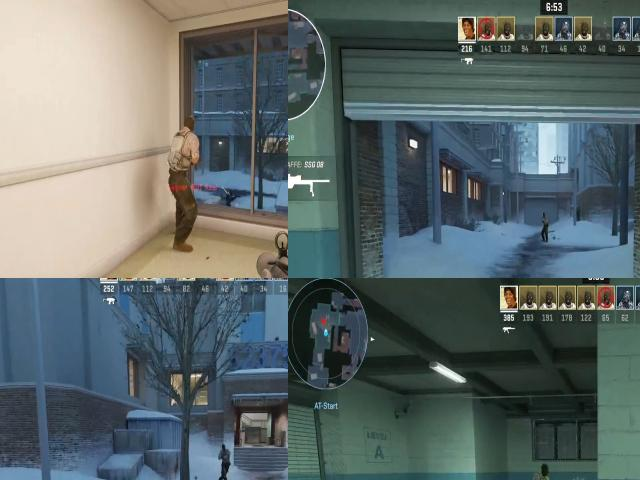T: (167, 119, 199, 184), (527, 464, 553, 480), (217, 442, 232, 468), (541, 210, 550, 233)
T-Head: (183, 113, 197, 138), (540, 464, 551, 478), (220, 445, 230, 456), (542, 210, 548, 222)
